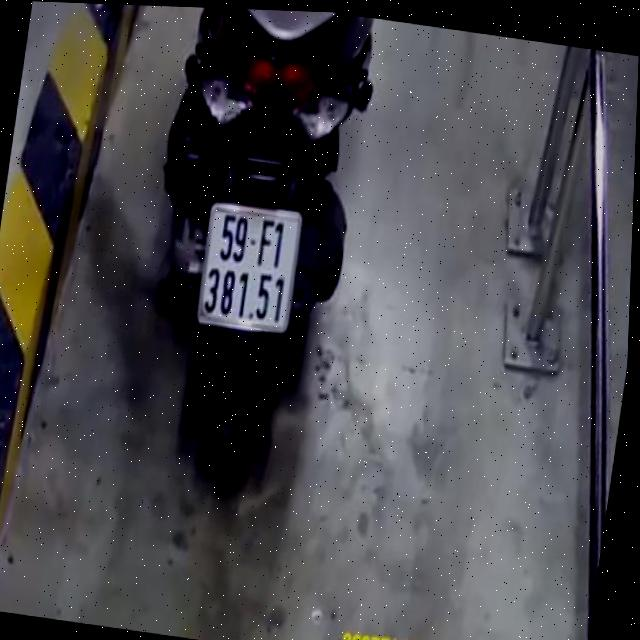motorcycle: (127, 5, 405, 493)
plate: (188, 192, 308, 339)
